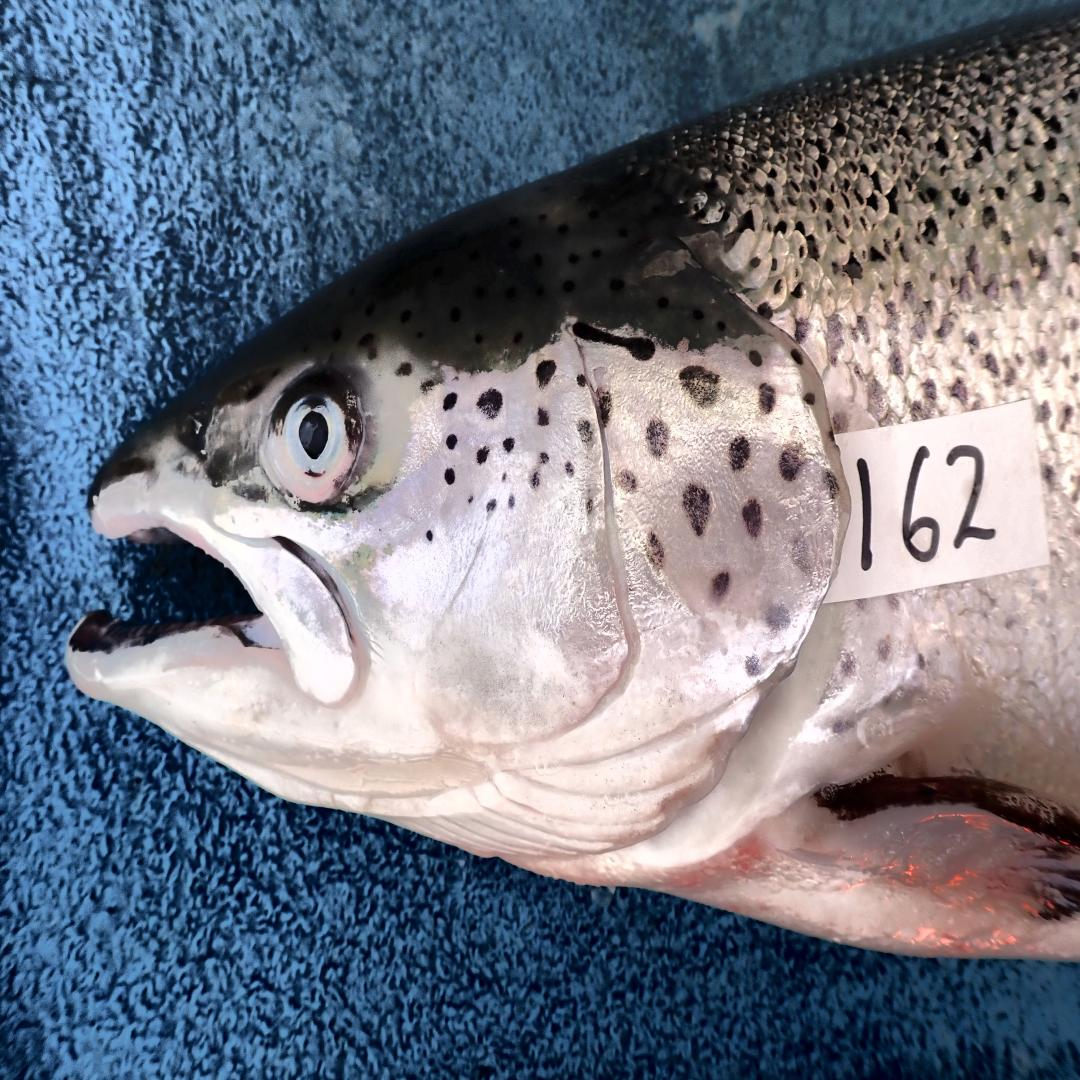spot: (572, 321, 656, 360), (681, 484, 713, 537), (679, 366, 719, 408), (791, 532, 816, 577), (778, 444, 804, 481), (645, 419, 669, 458), (742, 498, 764, 537), (477, 388, 502, 419), (730, 436, 751, 470), (766, 605, 791, 633), (648, 532, 664, 568), (597, 388, 612, 425), (759, 382, 776, 413), (536, 360, 557, 385), (713, 571, 730, 596), (825, 470, 840, 498), (618, 470, 637, 492), (578, 419, 593, 444), (745, 655, 761, 678), (443, 394, 458, 411), (445, 433, 458, 450), (791, 349, 804, 366), (477, 447, 489, 464), (749, 349, 761, 366), (538, 408, 548, 428), (445, 467, 456, 484), (502, 439, 515, 453), (804, 391, 816, 405), (532, 470, 540, 489), (506, 495, 515, 509), (565, 461, 574, 475), (487, 498, 496, 512), (426, 529, 435, 543), (586, 498, 593, 515), (500, 470, 508, 484), (576, 374, 586, 385), (540, 453, 548, 464), (468, 495, 475, 503)
